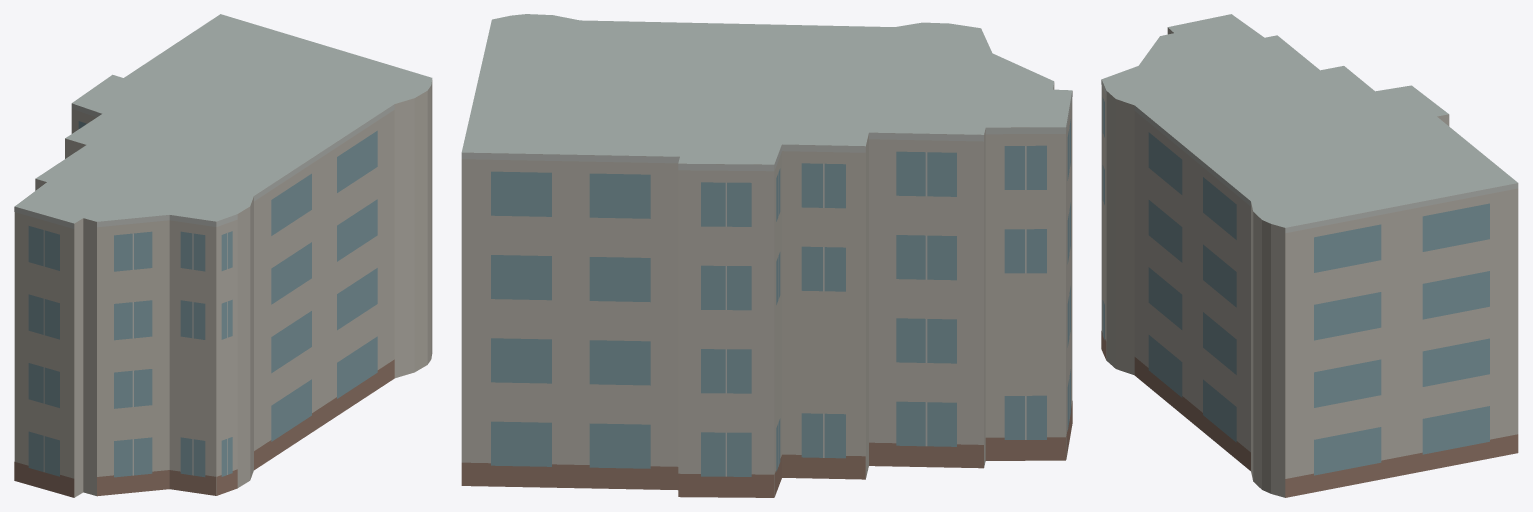
Rendered from survey-upis-32672841.glb.
3 views of the same model, side by side, from view 1: azimuth 30°, elevation 25°; view 2: azimuth 150°, elevation 25°; view 3: azimuth 270°, elevation 25° (orthographic). The views are drawn at different scales.
Parts seen in each view (by area): view 1: survey-upis-32672841.tmp; view 2: survey-upis-32672841.tmp; view 3: survey-upis-32672841.tmp.
Part boxes in pixels (x1,y1,x2,y2): survey-upis-32672841.tmp: (14, 14, 432, 497); survey-upis-32672841.tmp: (461, 14, 1072, 497); survey-upis-32672841.tmp: (1101, 14, 1518, 497).
Size of the model in its own units: 20.73 by 12.2 by 17.08.
